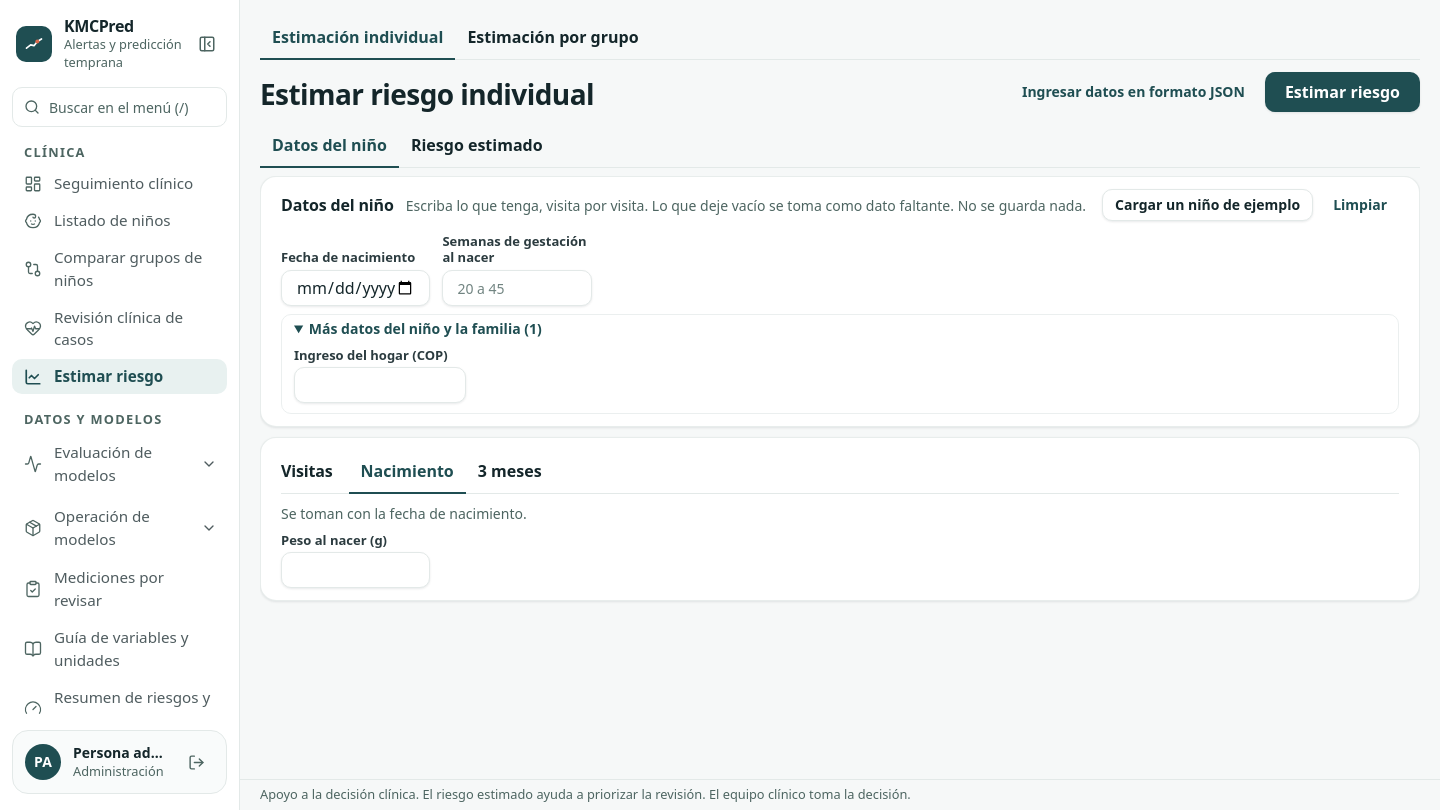
Scenario: calcular el riesgo de un niño › los datos generales van plegados y la administración tiene el modo avanzado
Expected: the heading "Más datos del niño y la familia (1)" is shown, top-left (309, 318), bottom-right (542, 338)
Click the button "Ingresar datos en formato JSON": (1133, 92) top-left (1010, 76), bottom-right (1257, 108)
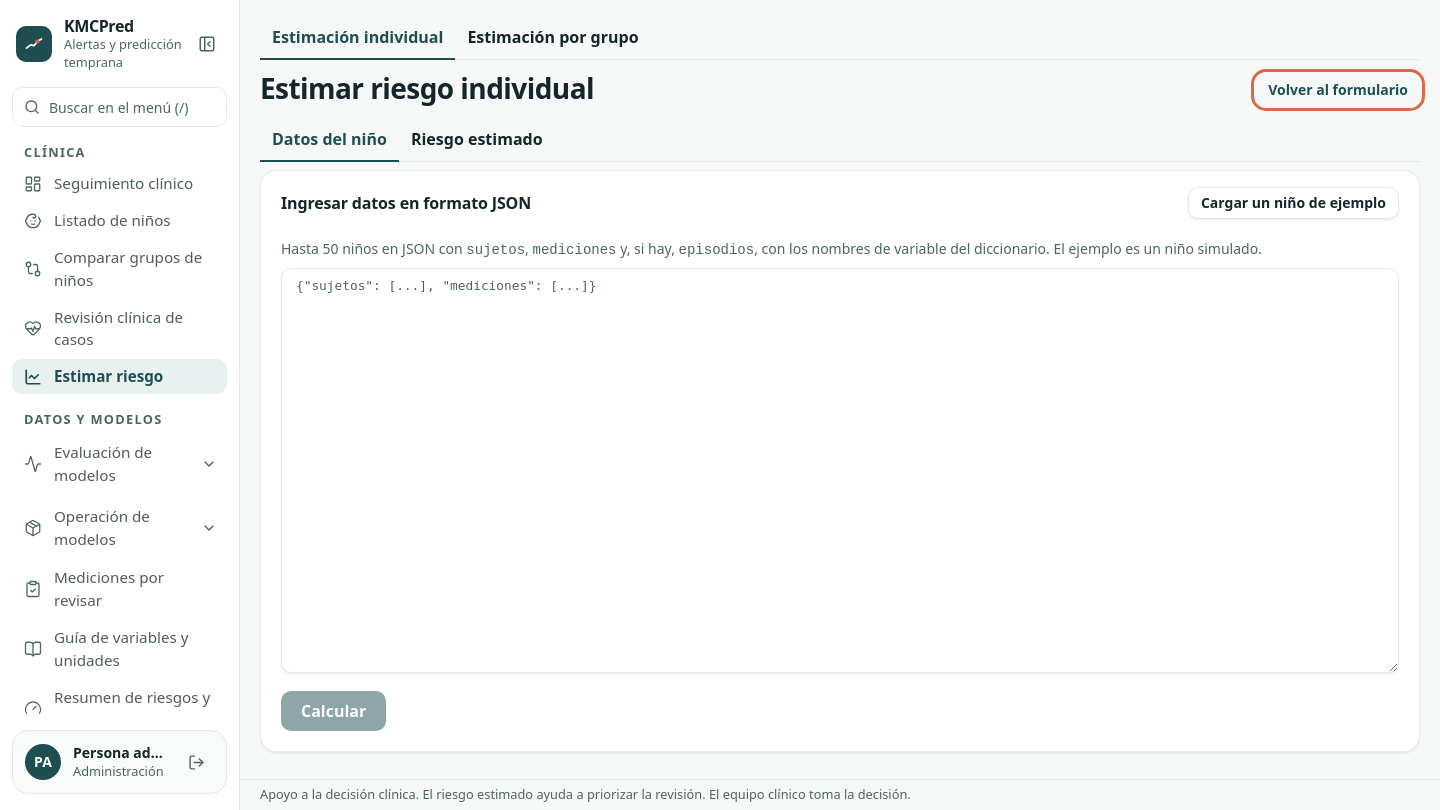
Result: the text box named "Petición en JSON" is shown at top-left (281, 268), bottom-right (1399, 673)
